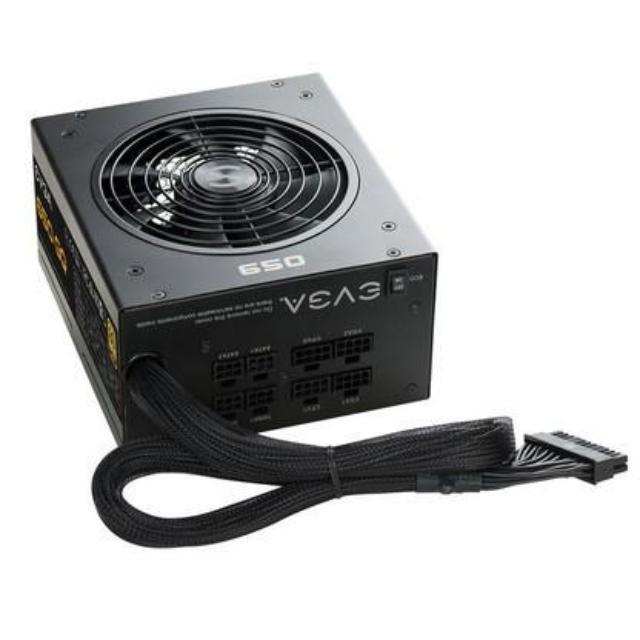PSU: (11, 49, 456, 478)
